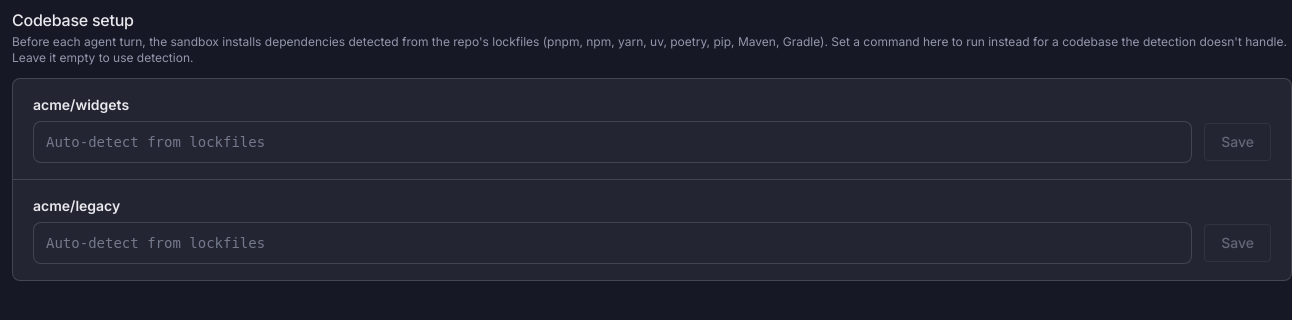
Test: CodebaseSetupSettings › saves a new override for one codebase
Type "  make deps  " into the field labelled "acme/widgets".
click(613, 142); type("  make deps  ")  # box x1=33 y1=121 x2=1192 y2=163
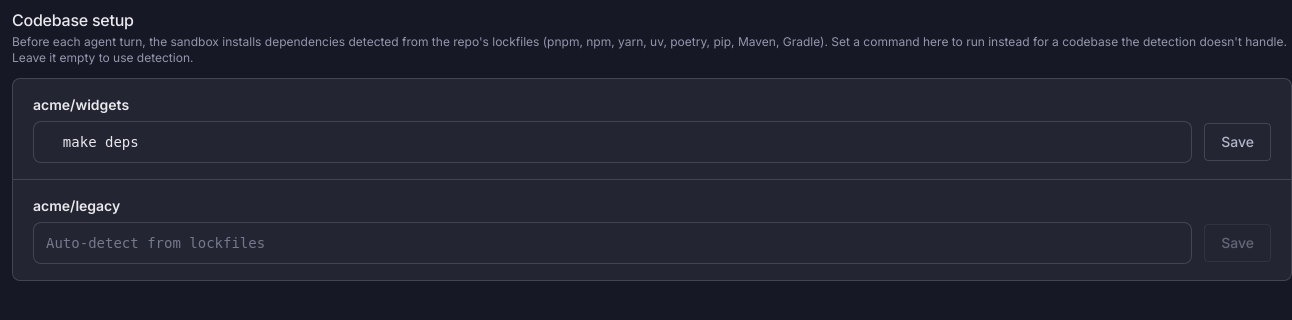
Click the 1st button "Save".
click(1238, 142)  # box x1=1204 y1=123 x2=1271 y2=161
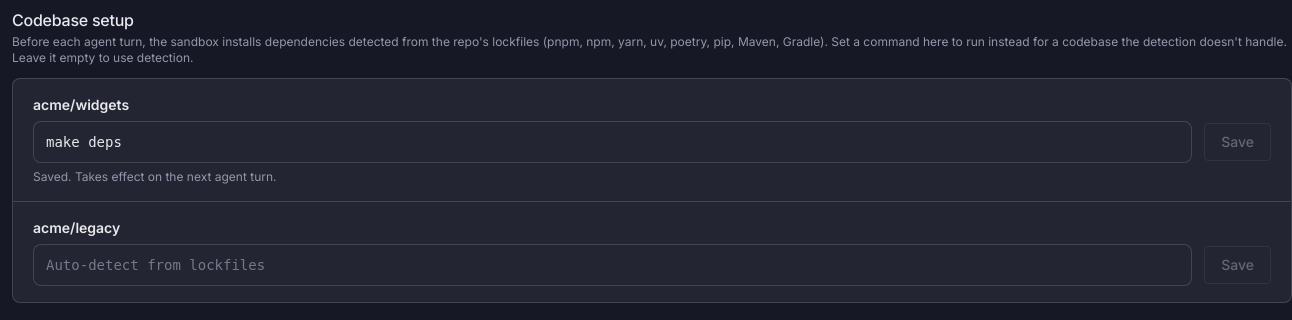
Expected: the text "Saved. Takes effect on the next agent turn." is shown, x1=33 y1=169 x2=276 y2=184
